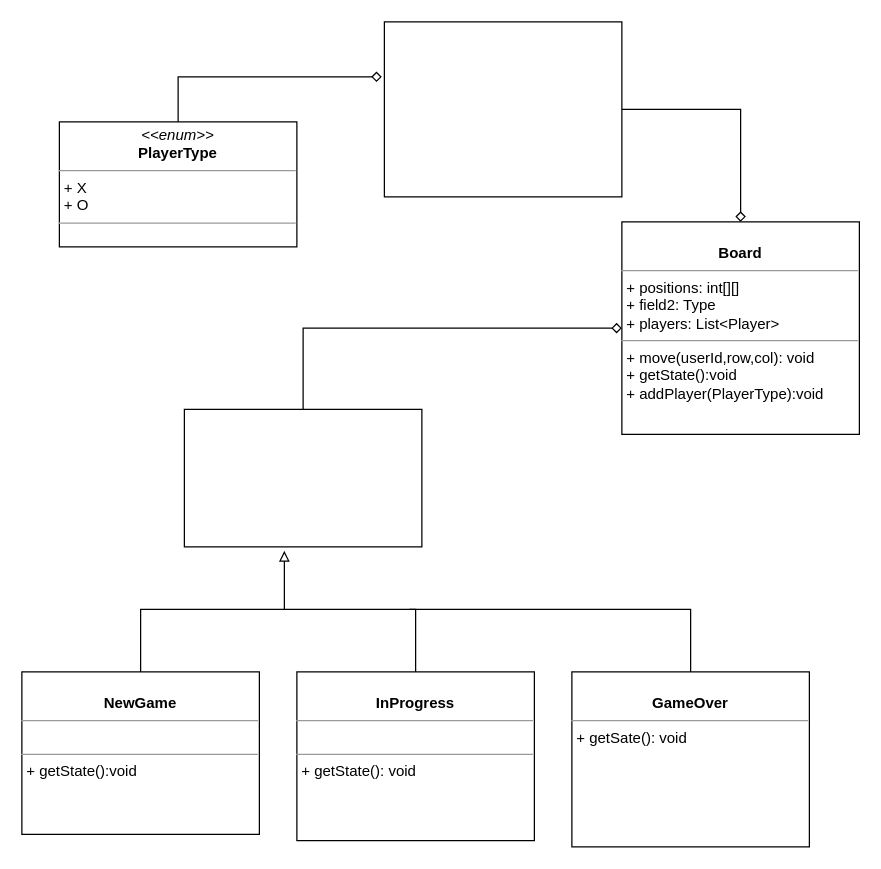
This 881x869 diagram has some shape labels left out. Here are the shapes that lost their labels. From the top down, the centre of each, then its label:
At point 502,109: "Player + userId: int + Player: PlayerType + addPlayer(string,PlayerType): void".
At point 302,477: "<<abstract>> GameStateObserver + geState():void".
